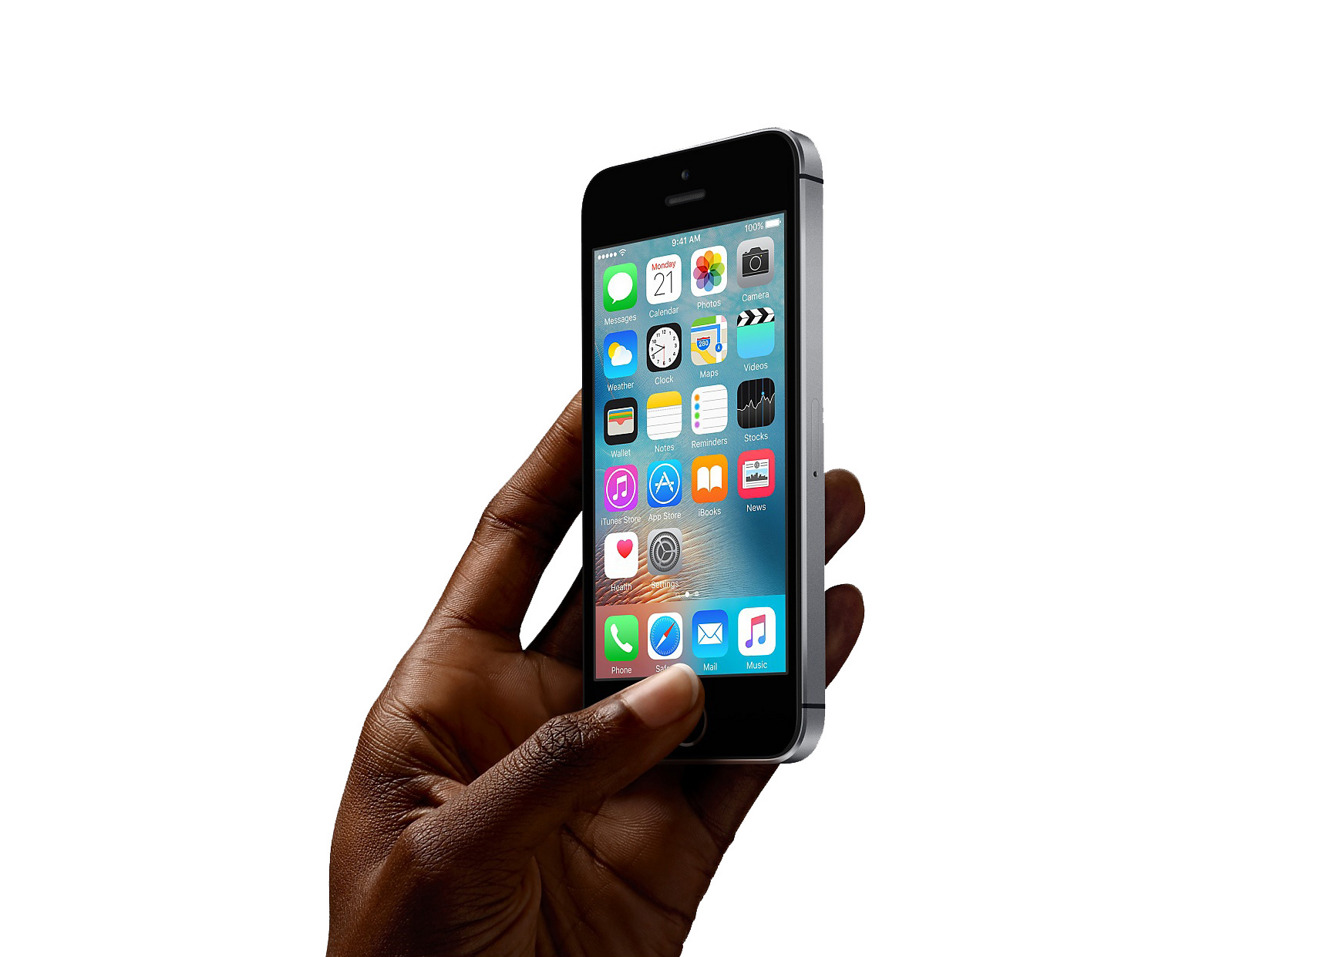smartphone: (580, 127, 825, 764)
